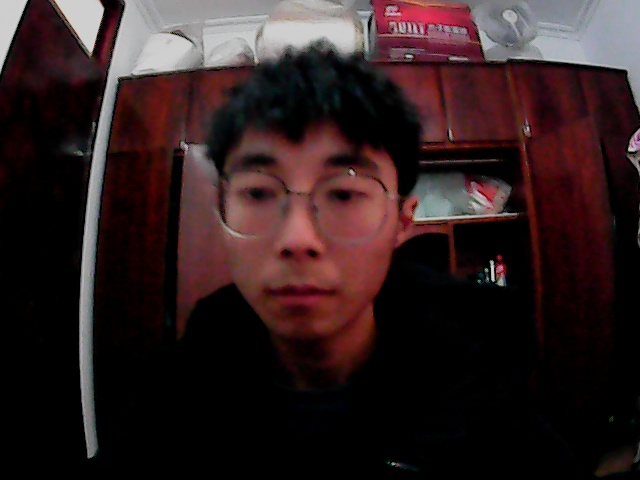face: (191, 37, 420, 344)
